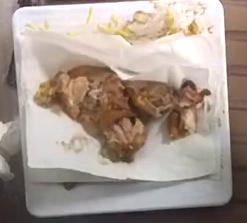chicken: (34, 66, 210, 162)
